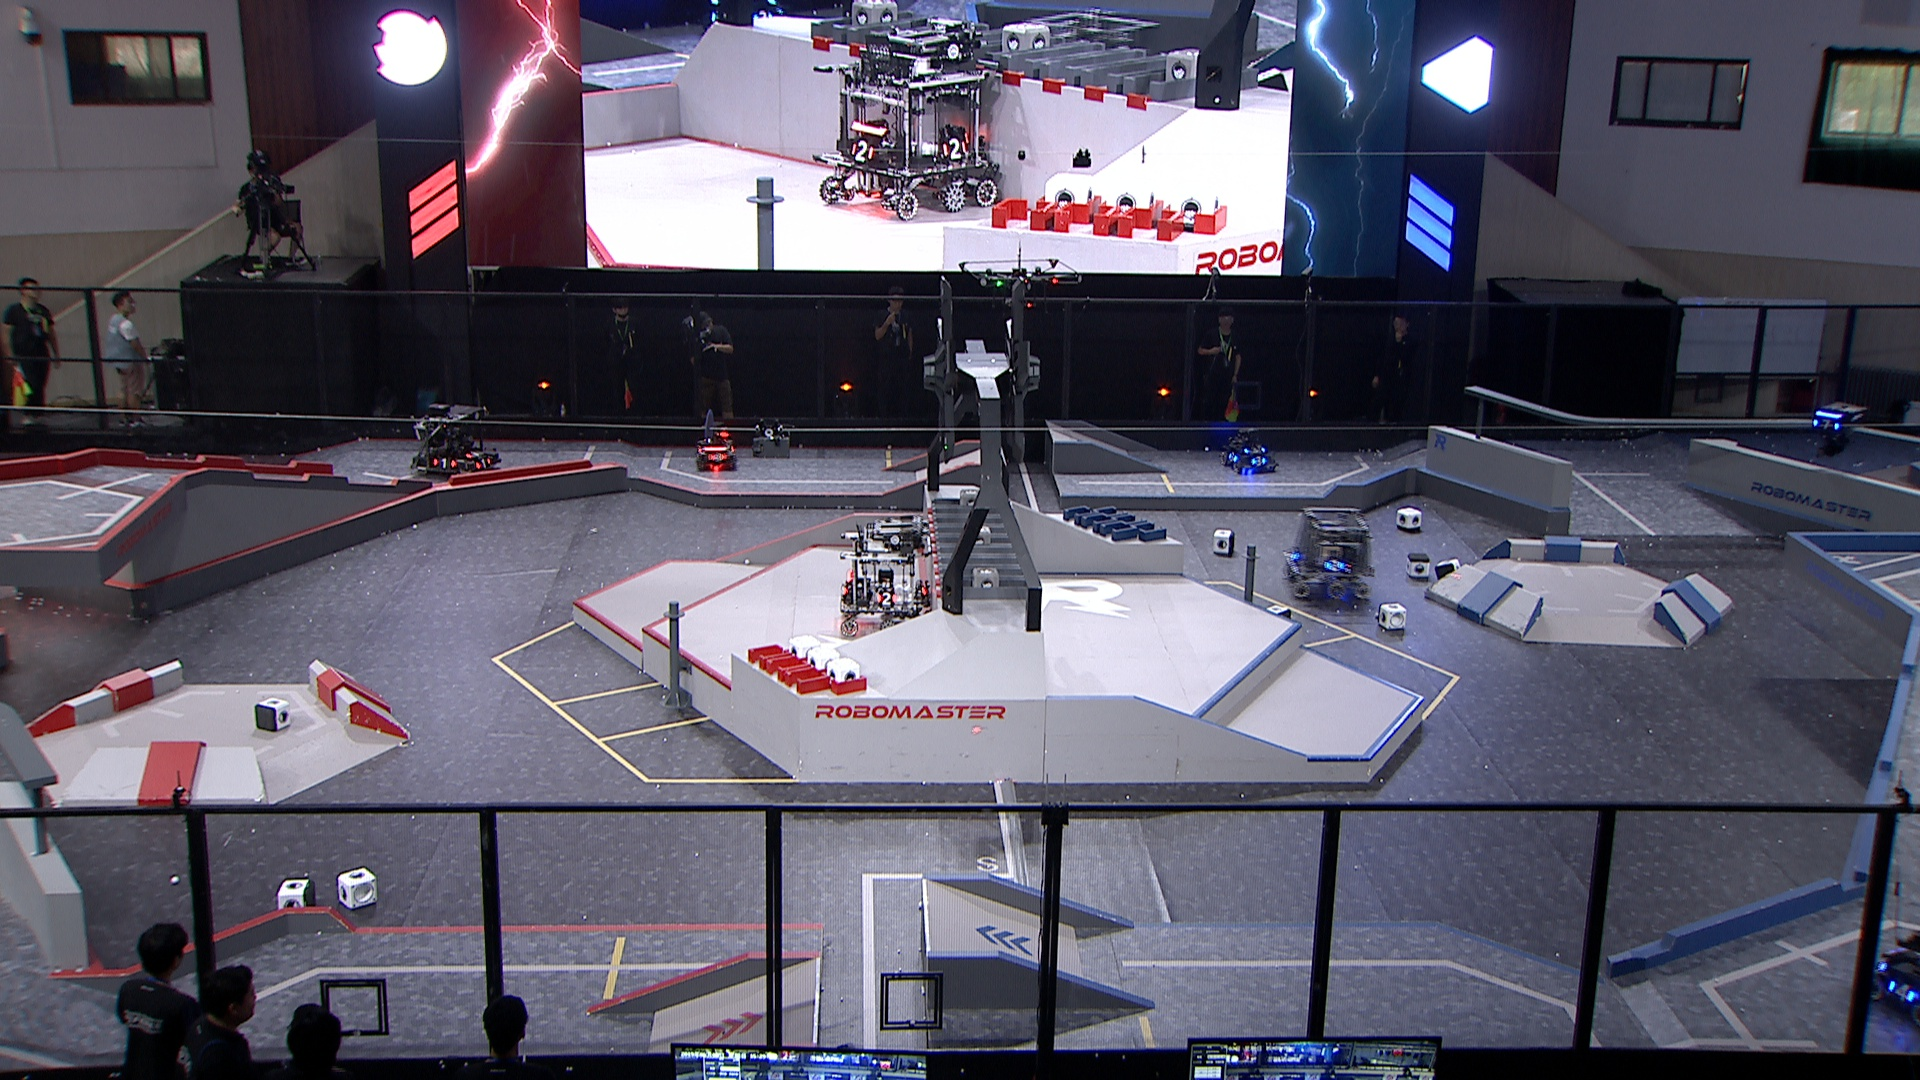armor: (1884, 975, 1920, 1007), (873, 589, 901, 608), (1811, 417, 1840, 434), (1321, 556, 1348, 574), (430, 456, 458, 471), (1244, 440, 1269, 455), (462, 446, 487, 458), (1247, 458, 1271, 469), (473, 458, 495, 469), (1224, 450, 1240, 465), (708, 450, 727, 462)
car: (835, 522, 940, 640), (1283, 510, 1377, 607), (410, 400, 498, 479), (1869, 926, 1920, 1030), (1216, 427, 1286, 475), (692, 427, 742, 473)
ignore: (811, 17, 1004, 220)
watcher: (1804, 400, 1866, 460)
